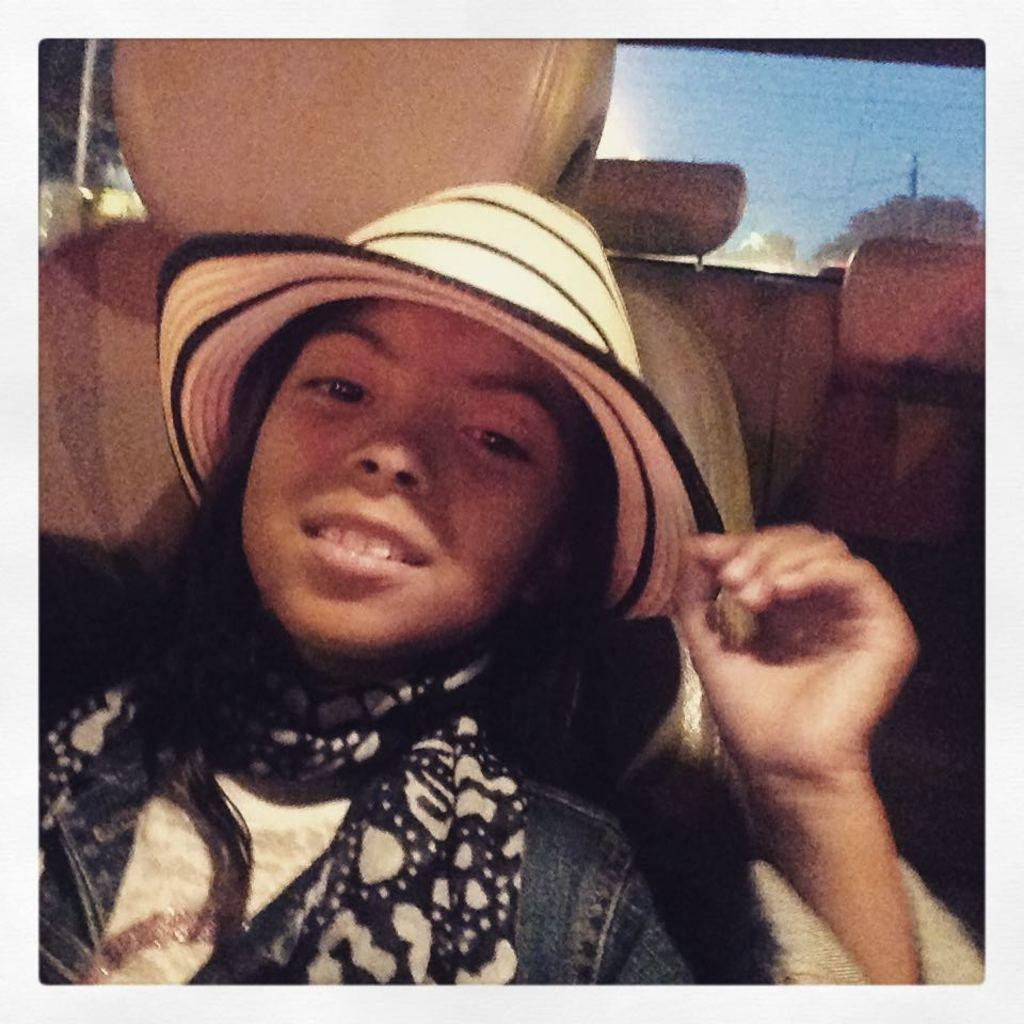Hat: (159, 182, 719, 630)
